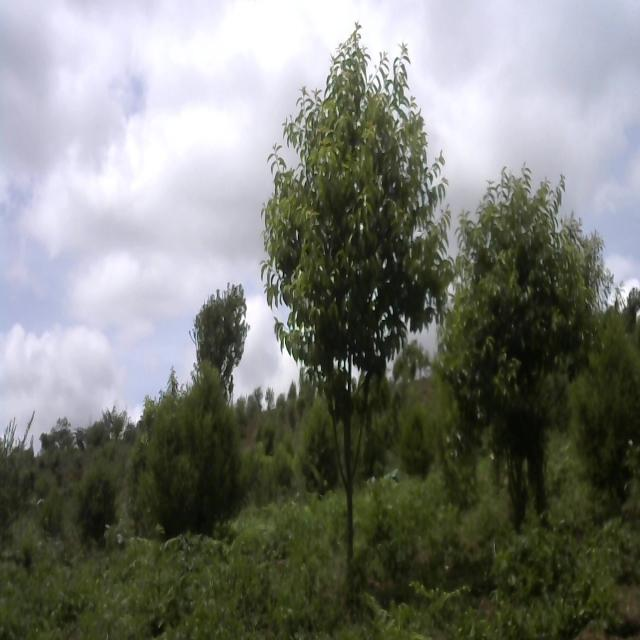Lemon Myrtle: (261, 26, 456, 640), (450, 99, 586, 513)
other: (186, 289, 250, 398)
